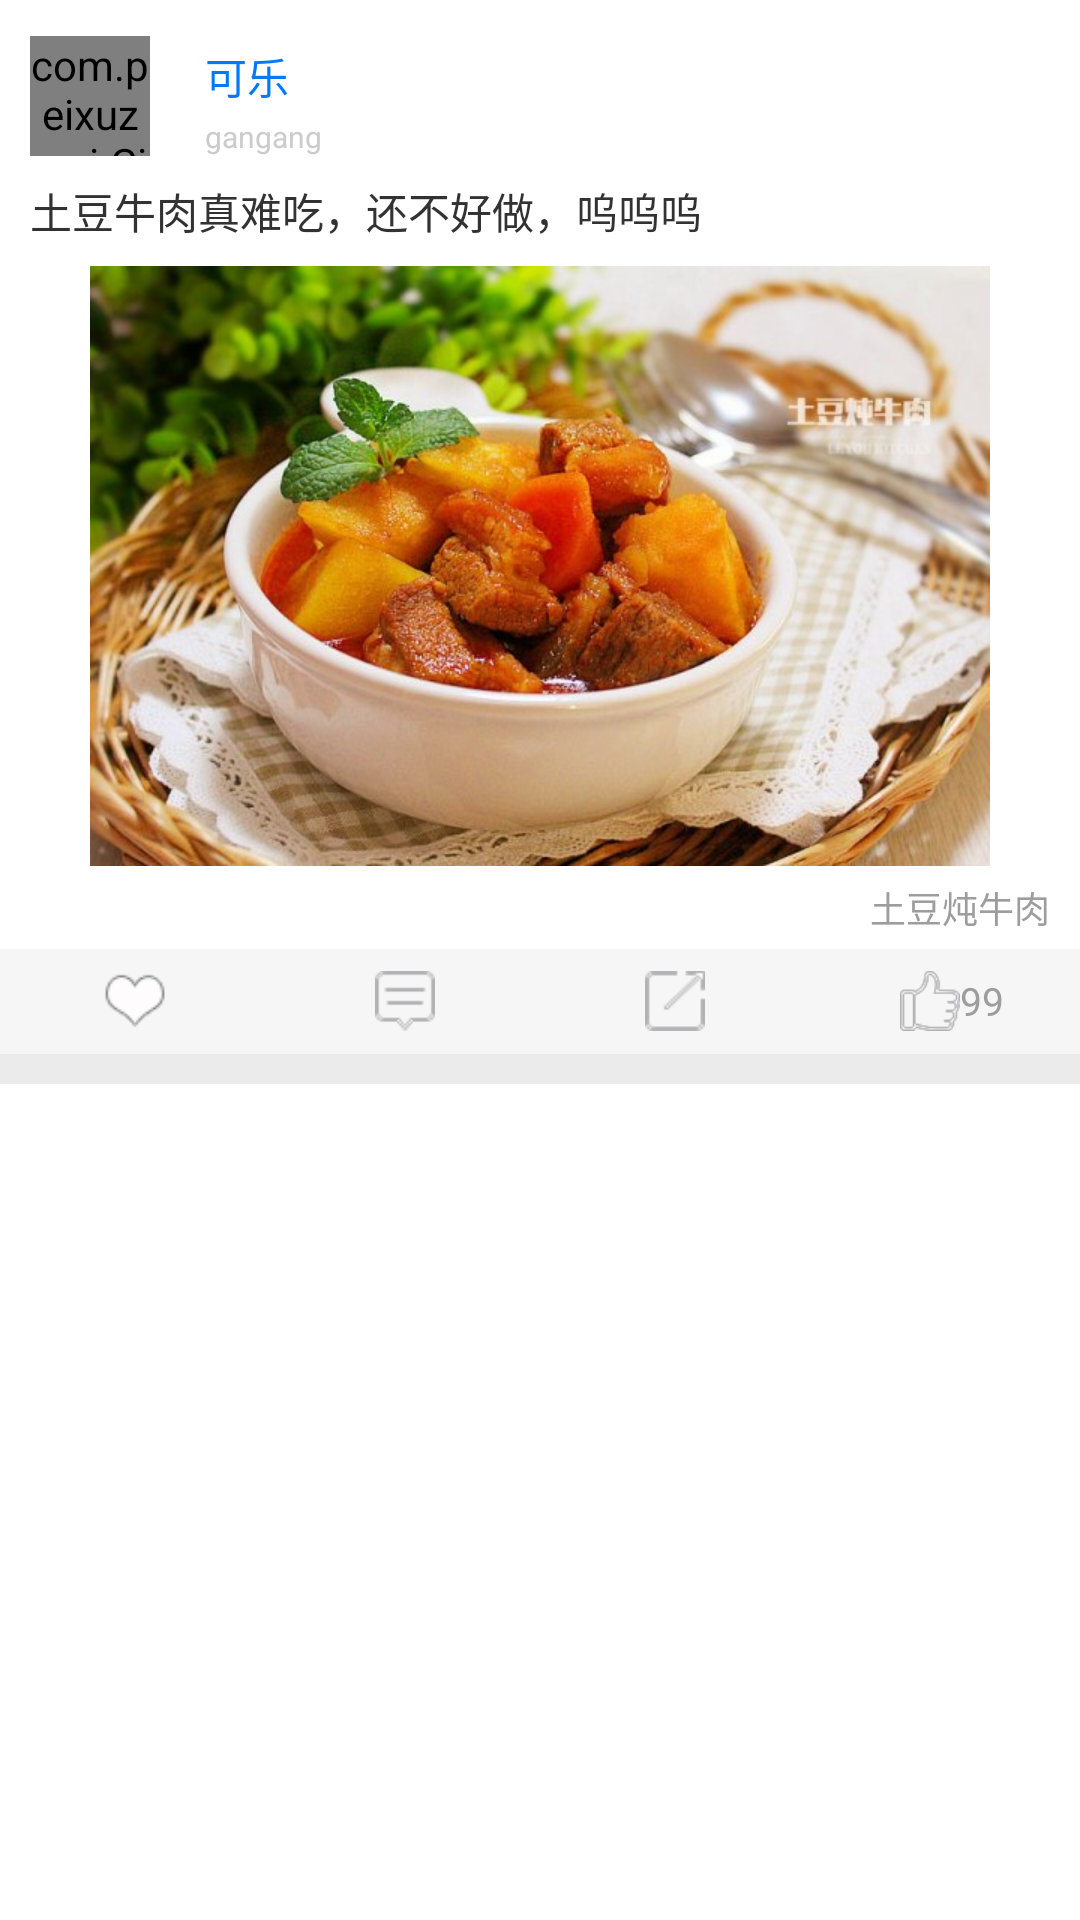

Icons on this 1080 × 1920 Android screen, each with its box as Rect(x1, y1, x2, y2):
circle comment: Rect(375, 971, 435, 1031)
circle share: Rect(645, 971, 705, 1031)
praise normol: Rect(900, 971, 960, 1031)
